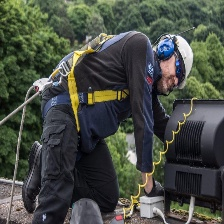helmet: (160, 31, 196, 95)
no-vest: (58, 32, 155, 129)
person: (38, 30, 198, 224)
